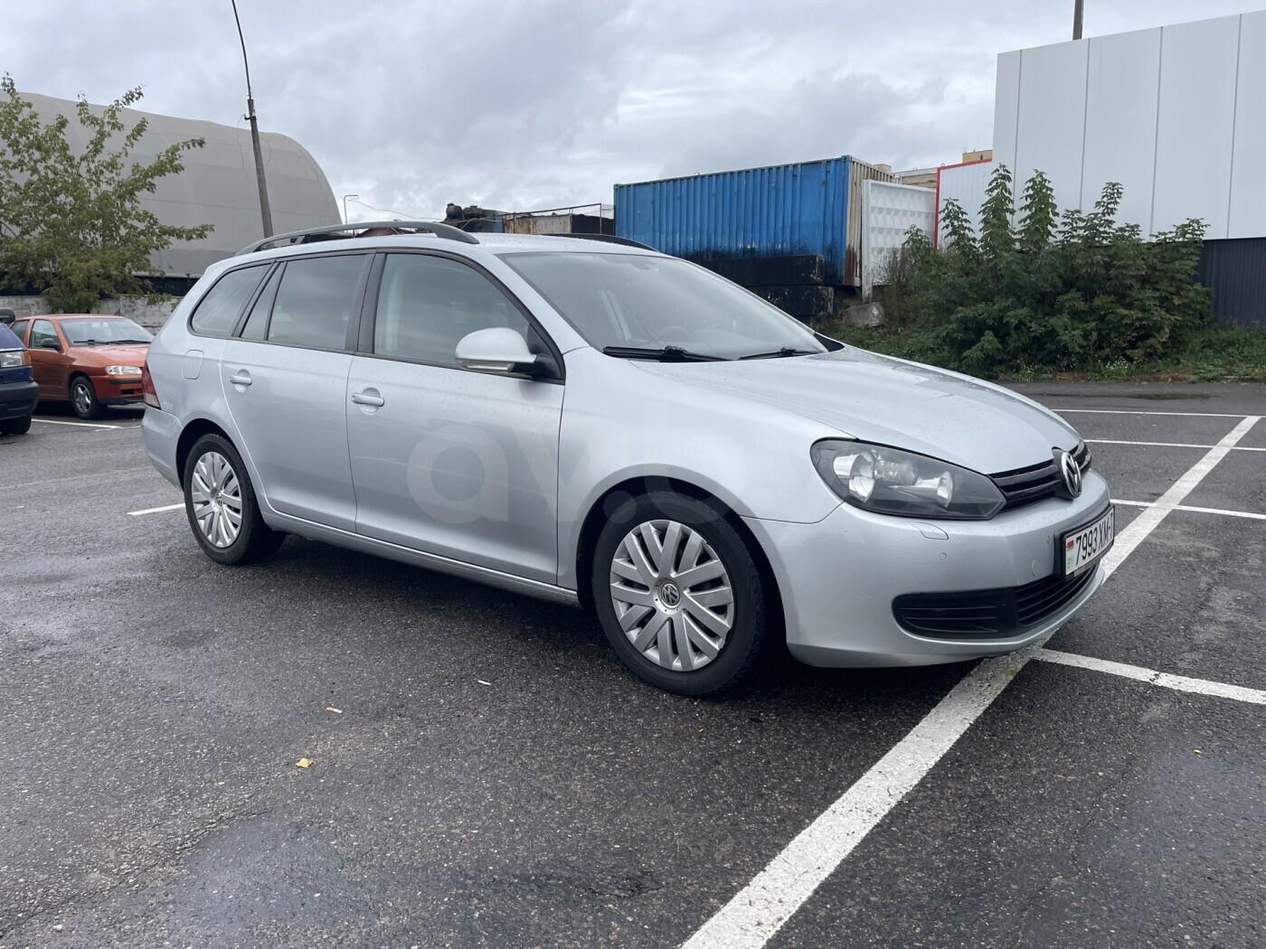Golf_2008-2013: (134, 225, 1119, 705)
